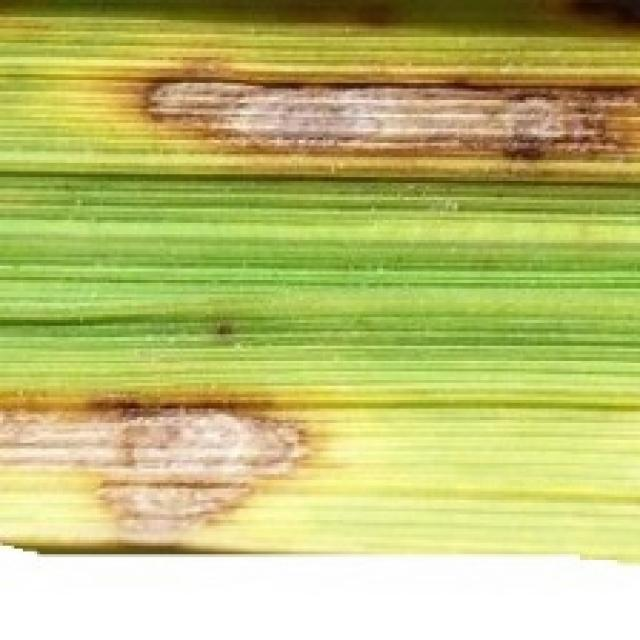Unhealthy: (106, 66, 640, 171), (0, 389, 317, 544), (209, 319, 245, 348)
